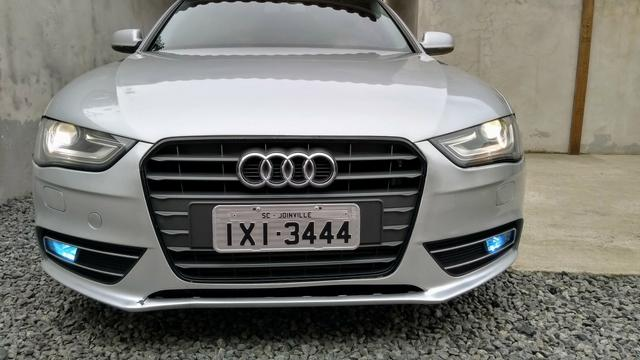audi: (233, 146, 339, 193)
